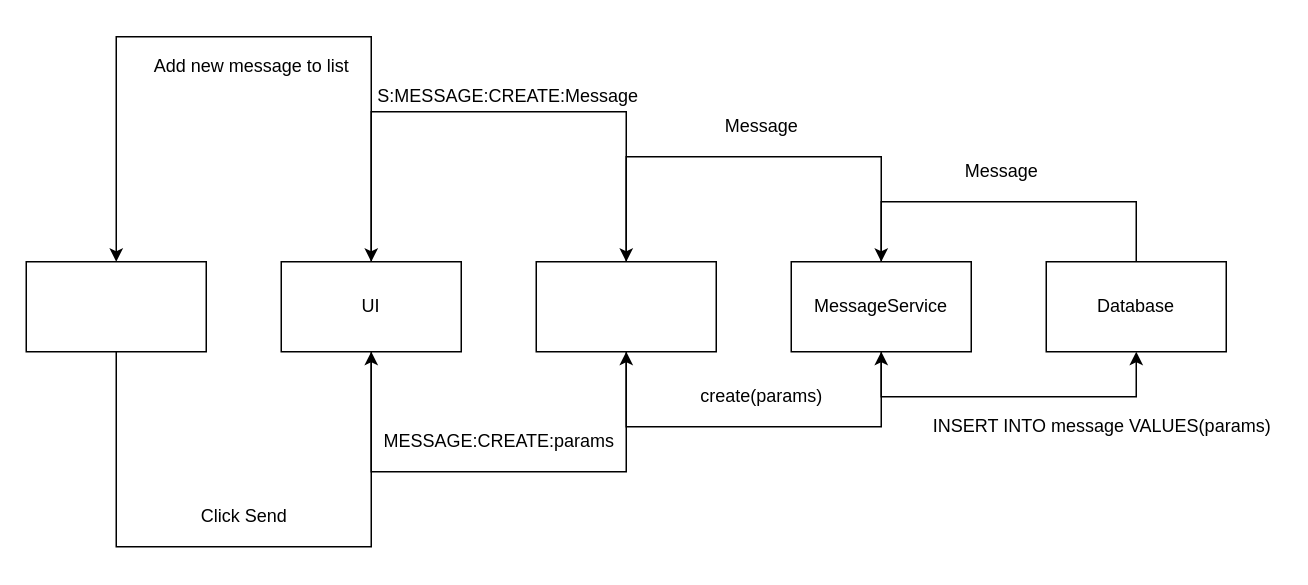
Image size: 1308x585. Some labels were removed from this diagram. Here are the shapes that lost their labels. From the top down, the centre of each, then its label:
At point 115,306: "User".
At point 625,306: "Interceptor".
